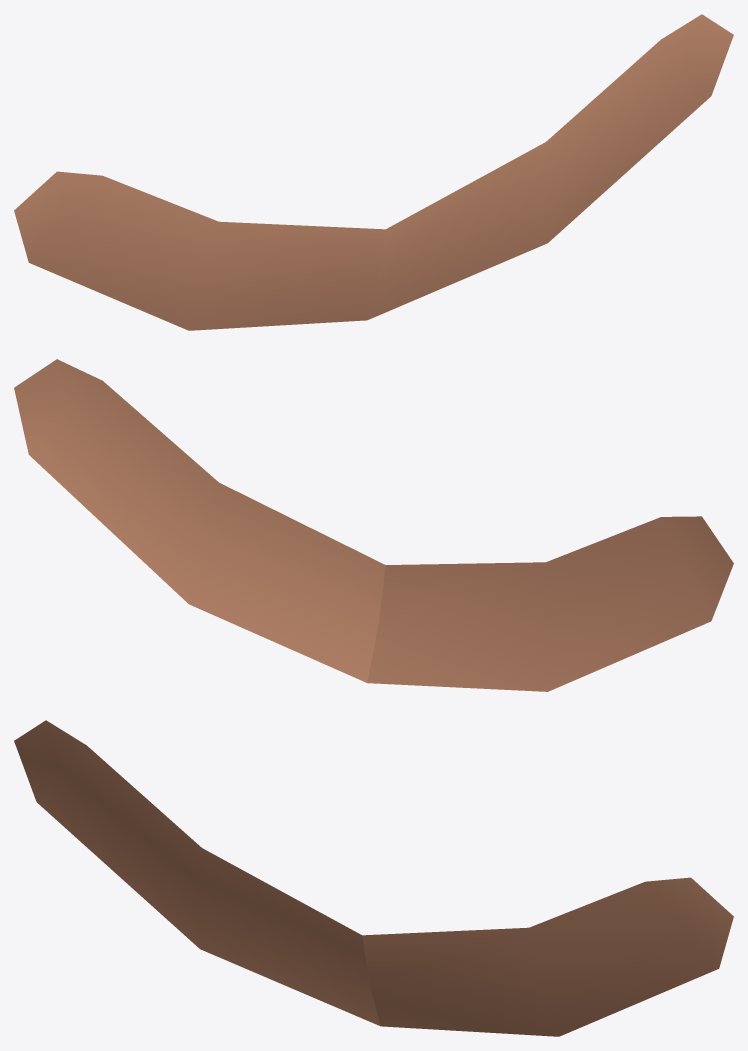
File: lips_1.fbx
3 views of the same model, one above another, from view 1: azimuth 30°, elevation 25°; view 2: azimuth 150°, elevation 25°; view 3: azimuth 330°, elevation 25° (orthographic).
Visible parts, largest first — view 1: lips_1; view 2: lips_1; view 3: lips_1.
Boxes of the visible parts, x1,y1,x2,y2 form: lips_1: (14, 14, 733, 330); lips_1: (14, 359, 733, 691); lips_1: (14, 720, 733, 1036).
Bounding box in the file's own units: 7.29 × 2.29 × 0.3234.
